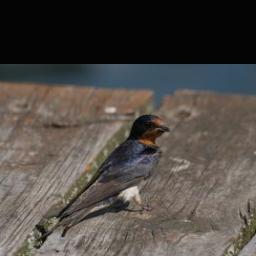Swallow: (35, 112, 171, 244)
